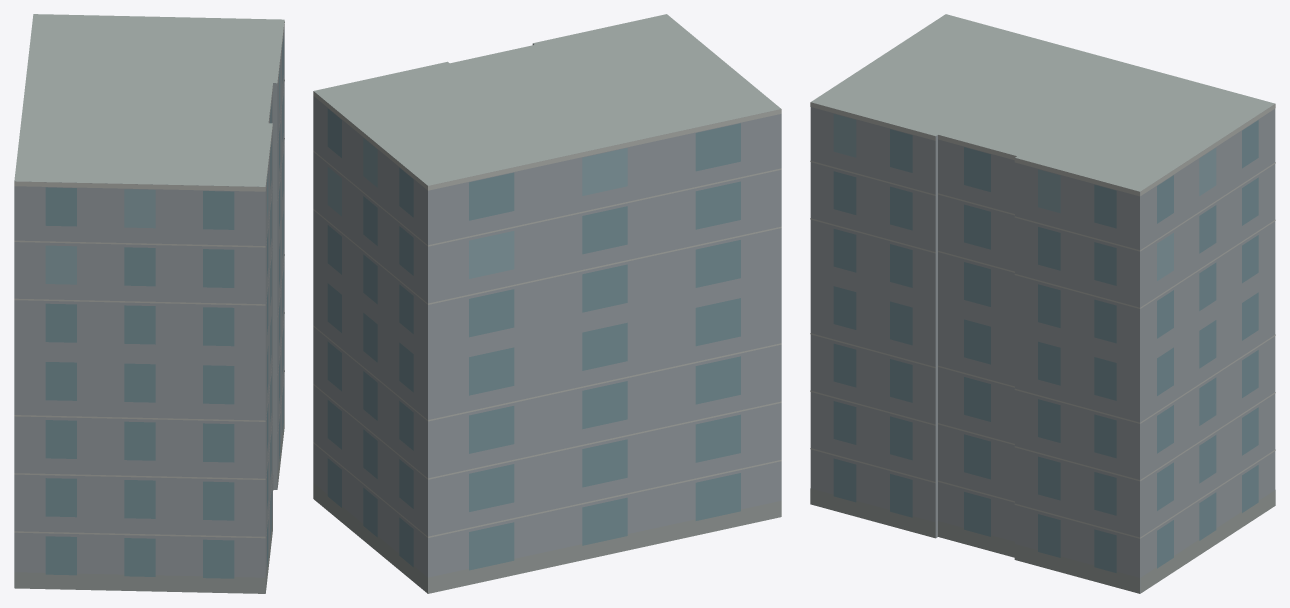
File: survey-upis-32922107.glb
The picture shows the model from 3 angles, left to right: view 1: azimuth 30°, elevation 25°; view 2: azimuth 150°, elevation 25°; view 3: azimuth 270°, elevation 25°; orthographic projection.
Visible parts, largest first — view 1: survey-upis-32922107.tmp; view 2: survey-upis-32922107.tmp; view 3: survey-upis-32922107.tmp.
Part boxes in pixels (x1,y1,x2,y2): survey-upis-32922107.tmp: [14, 14, 284, 593]; survey-upis-32922107.tmp: [313, 14, 781, 593]; survey-upis-32922107.tmp: [810, 14, 1275, 593].
Size of the model in its own units: 19.64 by 20.7 by 21.71.
